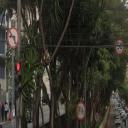NoVirarEsquerda: (7, 27, 19, 49)
speed_limit_50: (116, 39, 124, 55), (94, 112, 100, 122)
